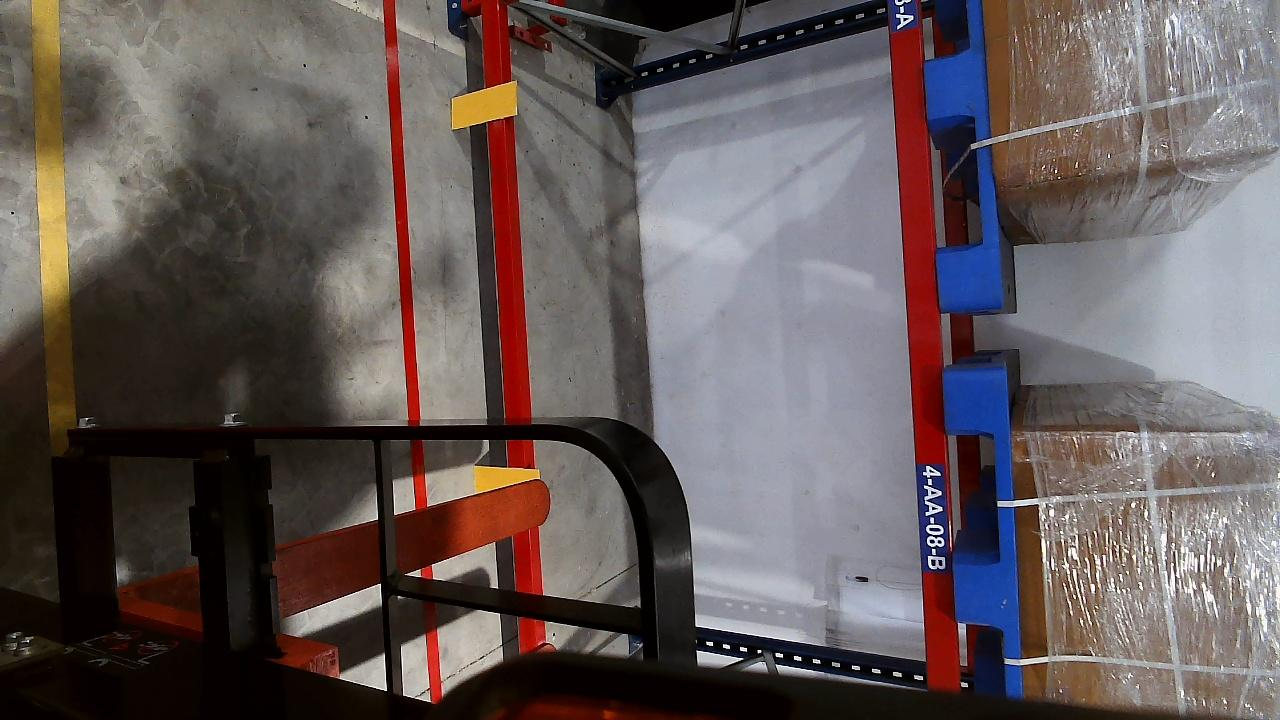h_rack: (473, 1, 555, 640), (885, 0, 954, 694)
orange_strip: (450, 82, 519, 129)
red_line: (380, 1, 447, 696)
small_pallet: (916, 1, 1008, 307), (942, 372, 1028, 691)
yellow_line: (30, 0, 74, 438)
